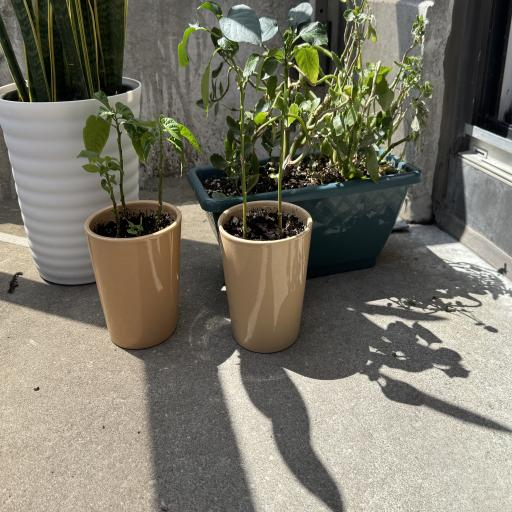Plant Pot: (0, 79, 142, 286), (186, 156, 420, 272), (84, 198, 180, 351), (217, 199, 311, 350)
